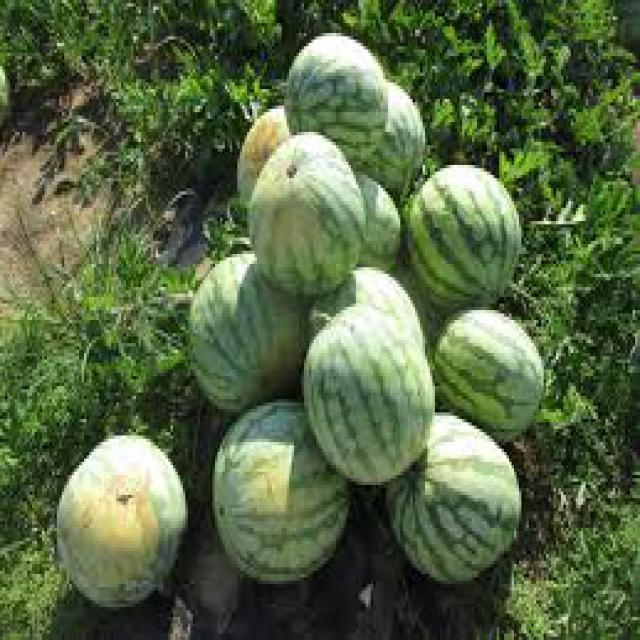watermelon: (215, 402, 346, 578), (304, 304, 430, 482), (57, 435, 185, 607), (385, 416, 519, 577), (193, 251, 299, 409), (250, 132, 360, 284), (405, 168, 519, 304), (432, 310, 544, 436), (287, 33, 393, 142), (371, 86, 425, 188), (237, 106, 287, 198), (358, 172, 398, 270)
